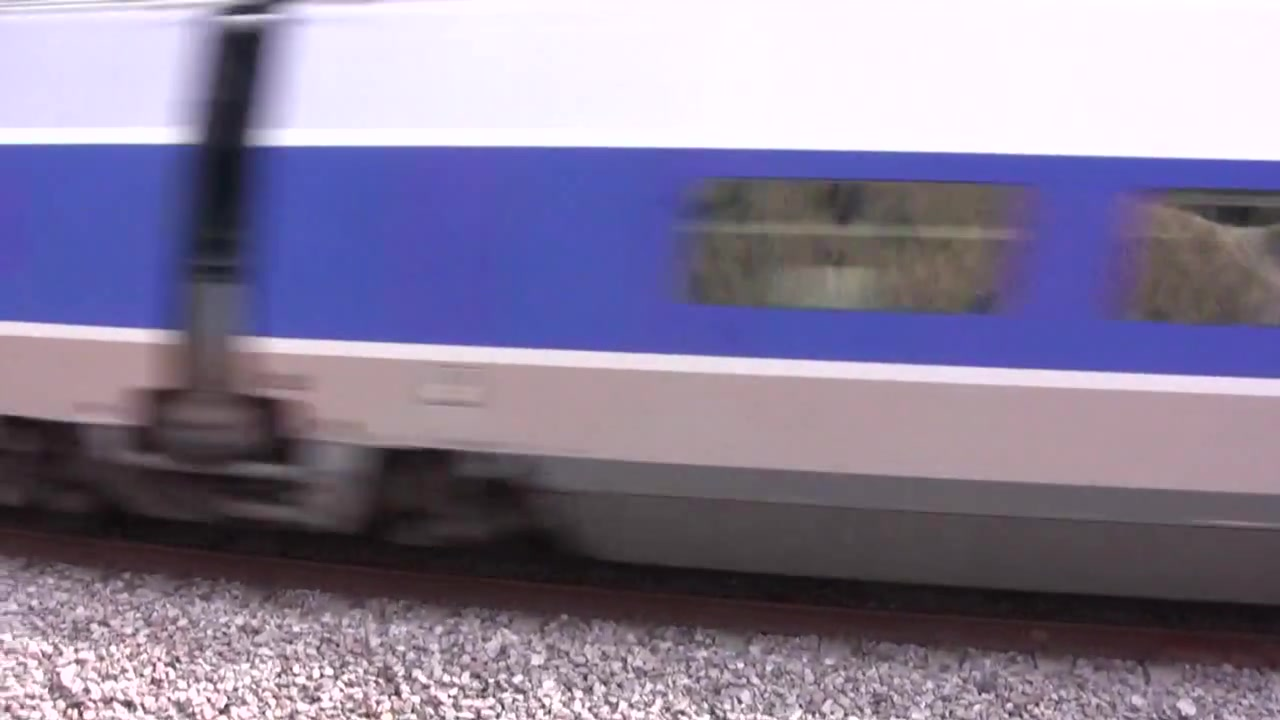train: (1, 1, 1280, 633)
